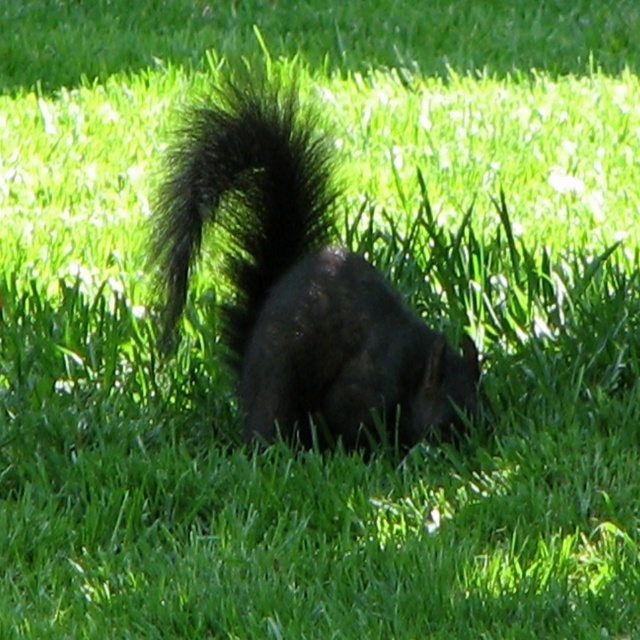Squirrel: (138, 62, 485, 479)
